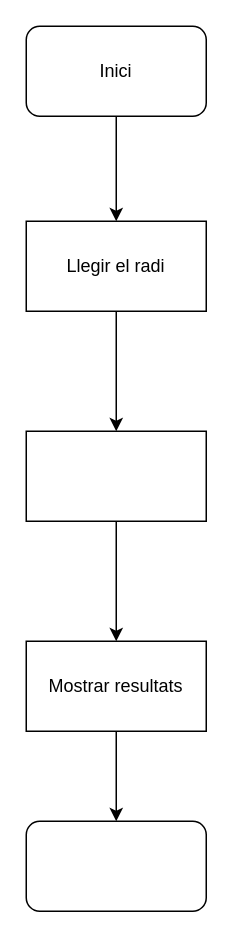
The diagram is 233 pixels wide and 938 high, and some of its shapes have lost their labels. Here are the shapes that lost their labels. From the top down, the centre of each, then its label:
At point (115, 475): "Calcular perímetre, area i volum.".
At point (115, 865): "Fi".
